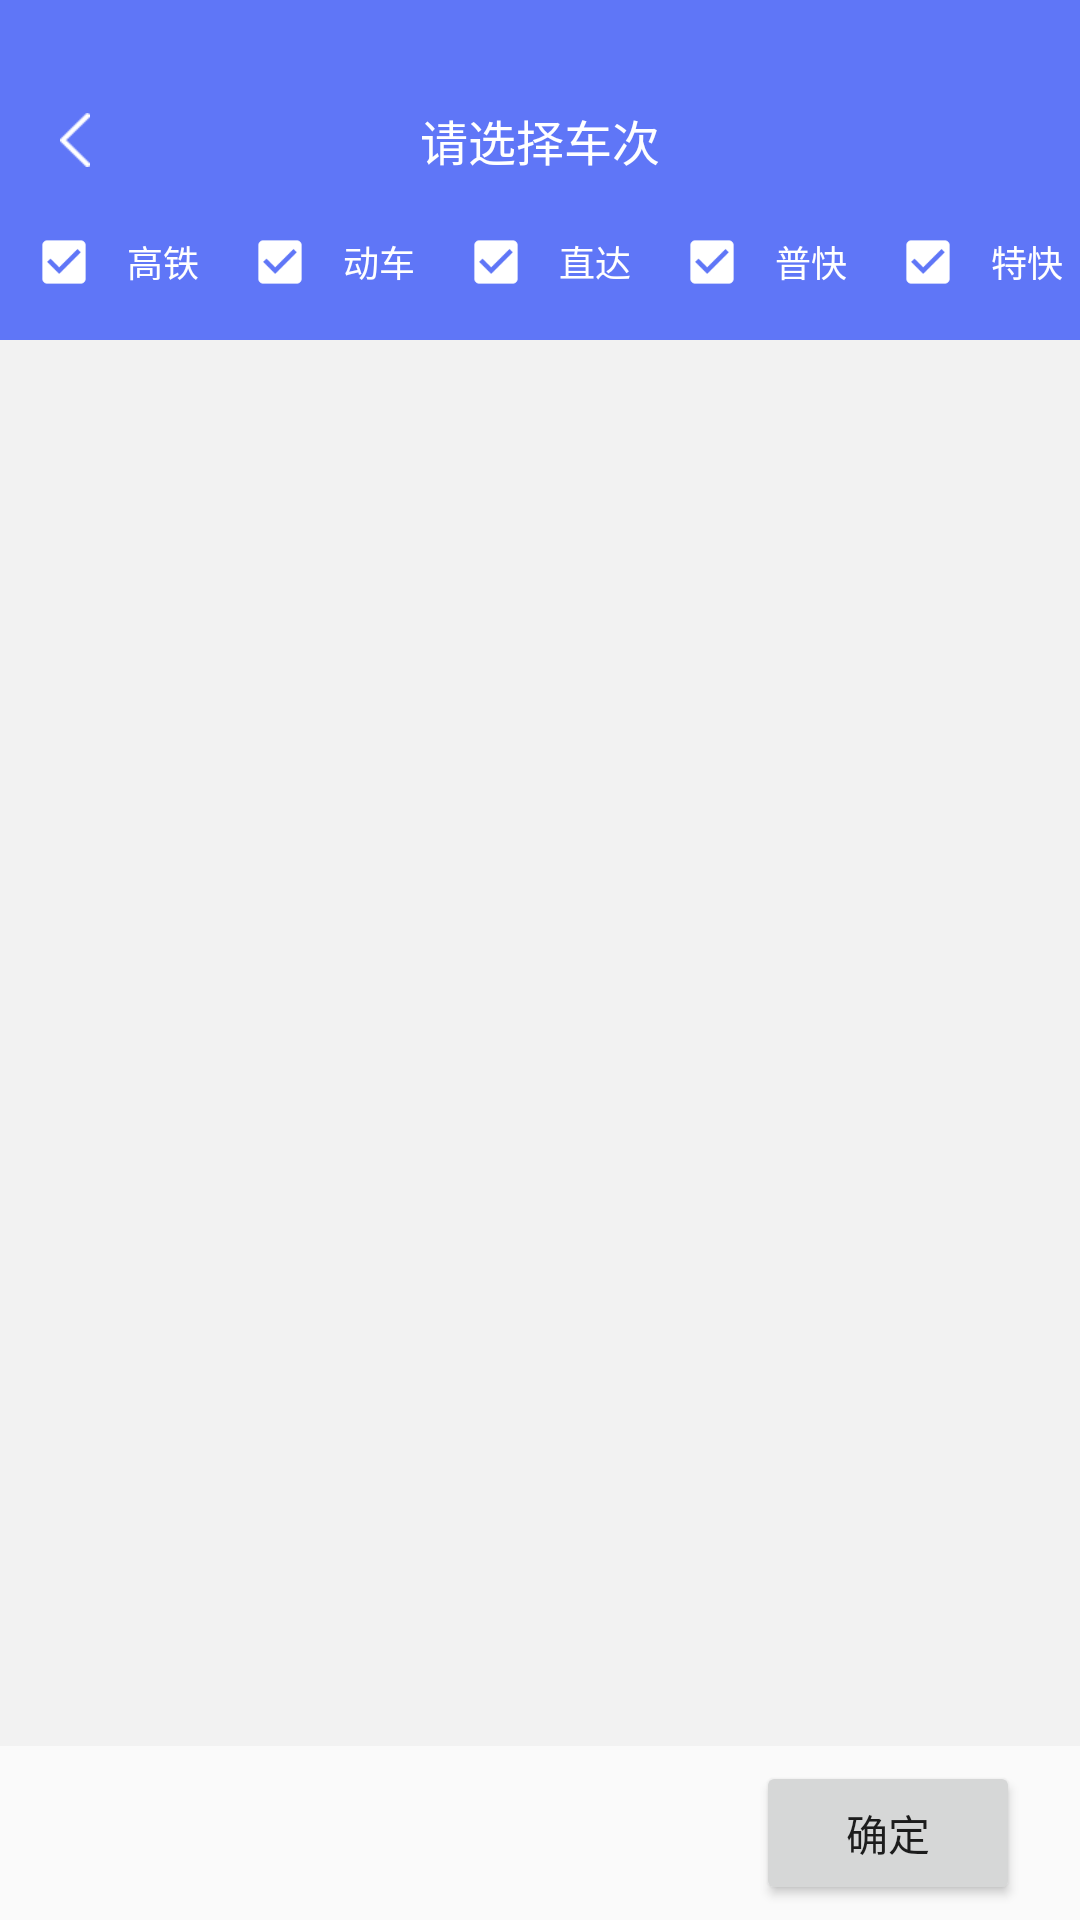

Where icons sit on this 1080 x 1920 app screen, as (x1, y1, x2, y2):
back: (60, 113, 90, 167)
